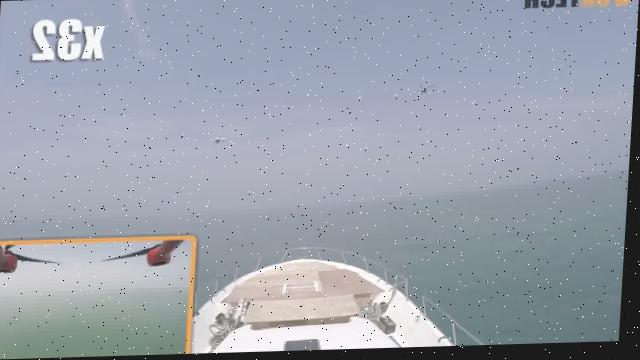drone: (406, 78, 447, 108), (205, 128, 233, 154)
